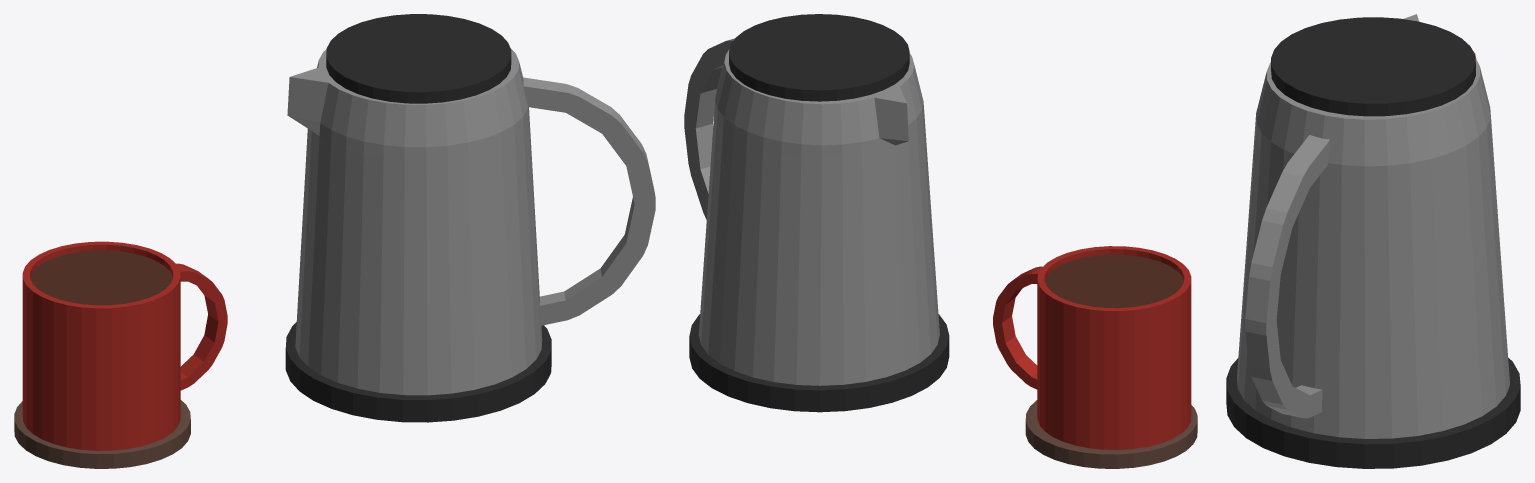
File: Teapot&Mug&plat.fbx
3 renders of one model, left to right at view 1: azimuth 30°, elevation 25°; view 2: azimuth 150°, elevation 25°; view 3: azimuth 270°, elevation 25°, orthographic. The views are drawn at different scales.
Visible parts, largest first — view 1: Cylinder, Cylinder.004, Cylinder.001, Circle, Cylinder.002, Cylinder.005, Cylinder.003, Circle.001; view 2: Cylinder, Cylinder.004, Cylinder.001, Cylinder.002, Cylinder.005, Circle, Cylinder.003, Circle.001; view 3: Cylinder, Cylinder.001, Circle, Cylinder.002.
Part boxes in pixels (bbox=[...]): Cylinder: bbox=[287, 48, 542, 395]; Cylinder.004: bbox=[22, 241, 180, 450]; Cylinder.001: bbox=[326, 14, 511, 103]; Circle: bbox=[523, 77, 655, 325]; Cylinder.002: bbox=[285, 322, 551, 422]; Cylinder.005: bbox=[30, 250, 172, 305]; Cylinder.003: bbox=[14, 400, 190, 468]; Circle.001: bbox=[176, 263, 227, 390]; Cylinder: bbox=[698, 49, 939, 385]; Cylinder.004: bbox=[1037, 246, 1191, 449]; Cylinder.001: bbox=[729, 14, 909, 101]; Cylinder.002: bbox=[689, 314, 949, 412]; Cylinder.005: bbox=[1044, 254, 1183, 308]; Circle: bbox=[684, 38, 734, 219]; Cylinder.003: bbox=[1025, 400, 1197, 468]; Circle.001: bbox=[993, 266, 1042, 389]; Cylinder: bbox=[1237, 14, 1509, 438]; Cylinder.001: bbox=[1271, 17, 1475, 116]; Circle: bbox=[1245, 135, 1329, 418]; Cylinder.002: bbox=[1226, 357, 1520, 468].
Bounding box in the file's own units: 156 × 81.59 × 62.86.
